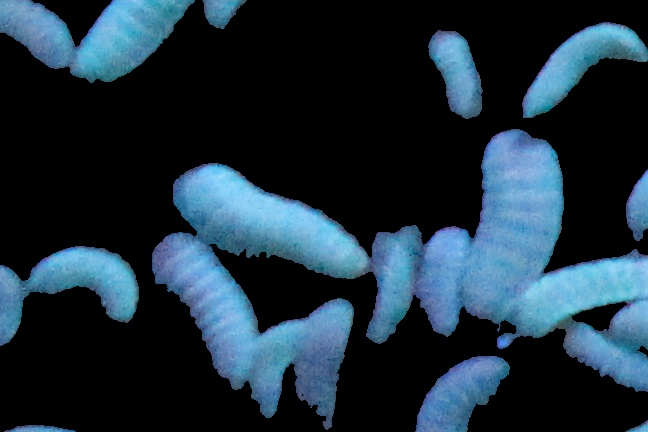larvae: (173, 163, 370, 282), (463, 131, 563, 322), (153, 231, 254, 391), (521, 21, 648, 119), (508, 253, 647, 340), (65, 1, 199, 80), (297, 296, 355, 431), (29, 246, 134, 319), (410, 357, 511, 432), (413, 221, 472, 346), (420, 28, 488, 121), (1, 1, 76, 84), (564, 319, 648, 393), (370, 221, 413, 349), (243, 321, 296, 420), (1, 259, 22, 349), (624, 167, 648, 237), (202, 1, 242, 31)
